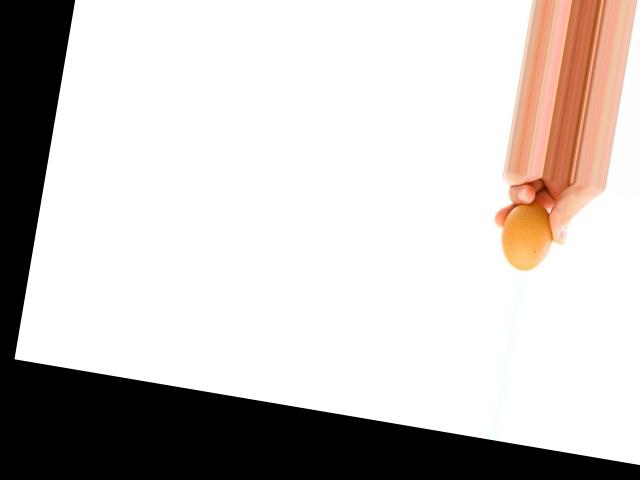egg: (495, 199, 557, 274)
